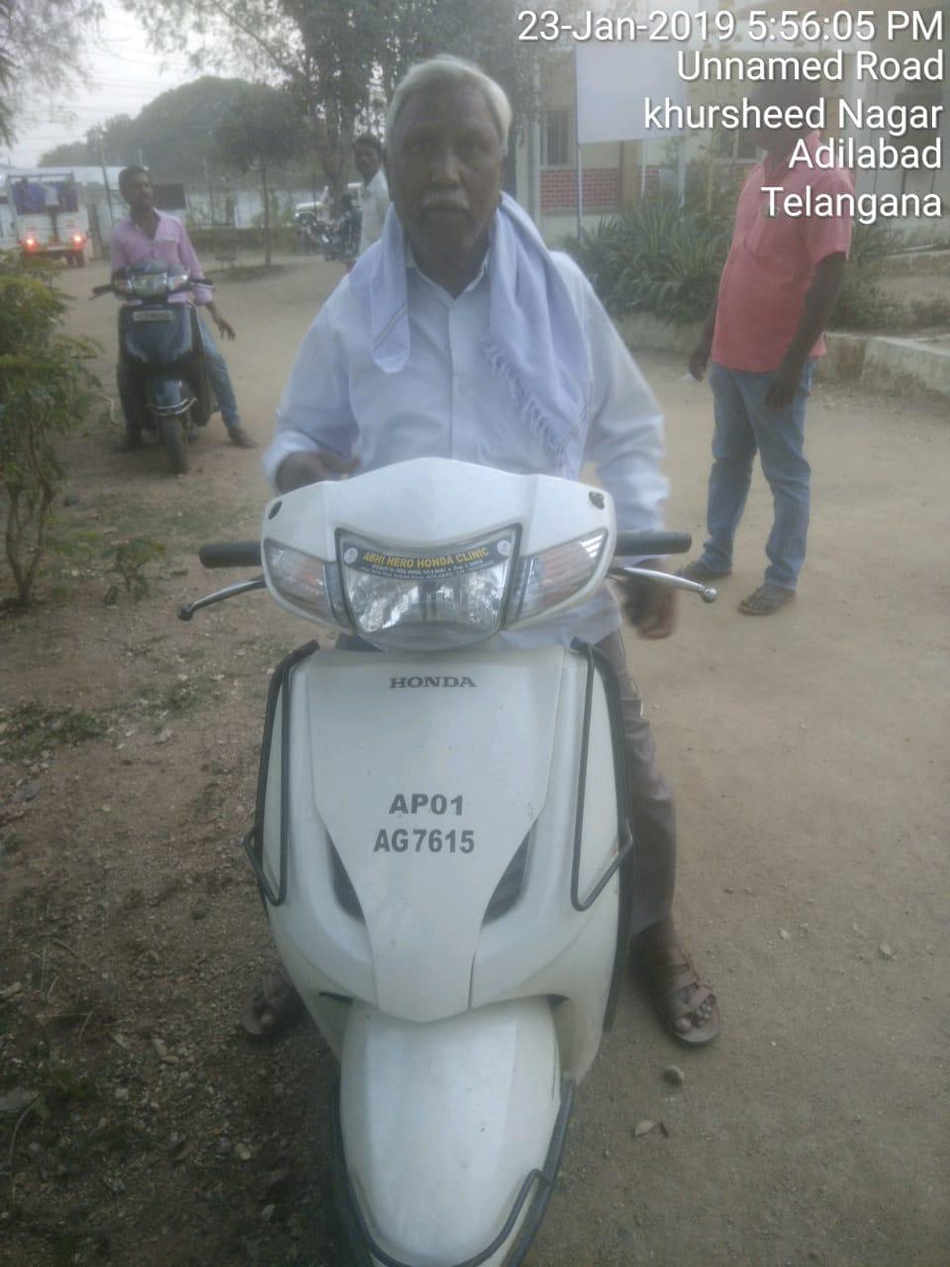plate: (360, 774, 500, 871)
